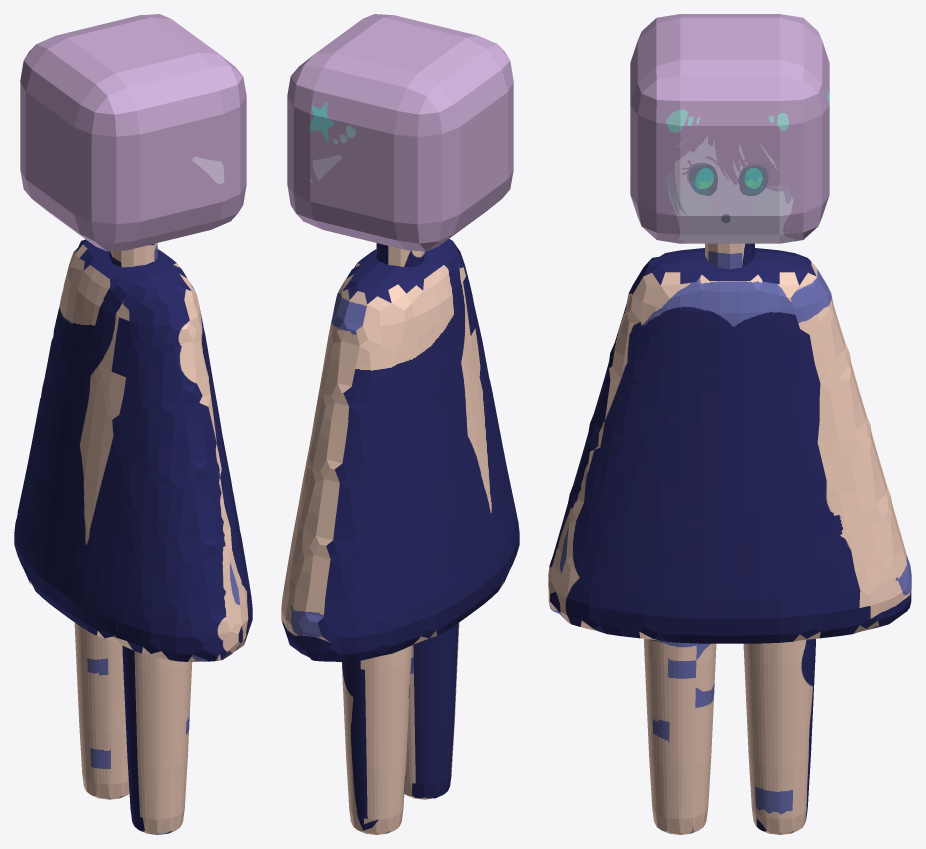
File: elf.fbx
The picture shows the model from 3 angles, left to right: view 1: azimuth 30°, elevation 25°; view 2: azimuth 150°, elevation 25°; view 3: azimuth 270°, elevation 25°; orthographic projection. The views are drawn at different scales.
Visible parts, largest first — view 1: mobChara1; view 2: mobChara1; view 3: mobChara1.
Boxes of the visible parts, left/top/right/bottom form: mobChara1: left=14, top=14, right=252, bottom=834; mobChara1: left=281, top=14, right=519, bottom=834; mobChara1: left=548, top=14, right=911, bottom=834.
Bounding box in the file's own units: 100 × 436 × 182.
Materials: 2 (2 with a texture image).
